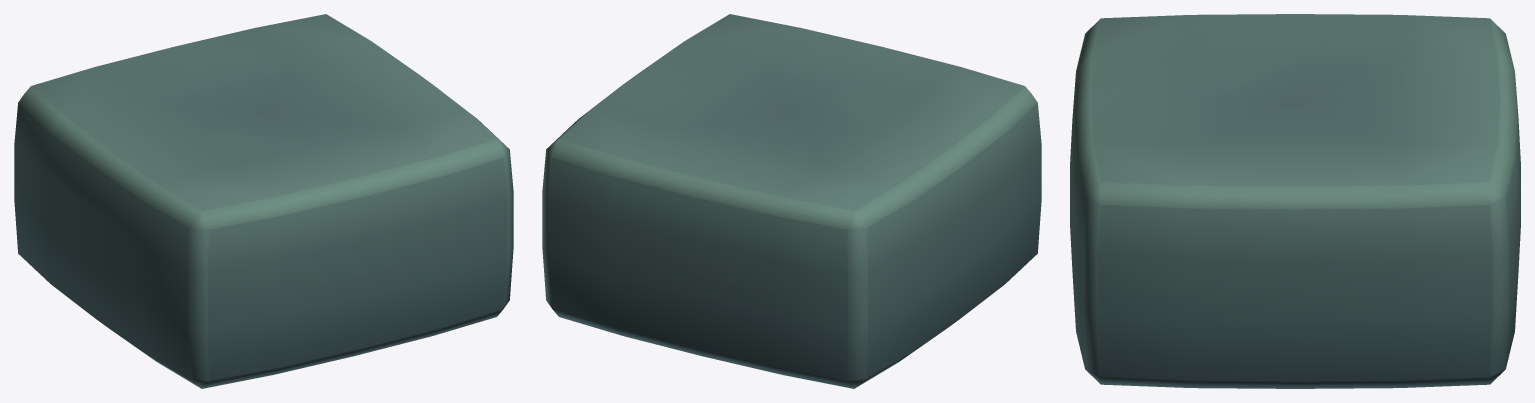
Rendered from cube_06_shade_2_LOD_setup.fbx.
The picture shows the model from 3 angles, left to right: view 1: azimuth 30°, elevation 25°; view 2: azimuth 150°, elevation 25°; view 3: azimuth 270°, elevation 25°; orthographic projection. The views are drawn at different scales.
Visible parts, largest first — view 1: cube_06_shade_2_LOD0; view 2: cube_06_shade_2_LOD0; view 3: cube_06_shade_2_LOD0.
Boxes of the visible parts, x1,y1,x2,y2 form: cube_06_shade_2_LOD0: [14, 14, 513, 388]; cube_06_shade_2_LOD0: [542, 14, 1041, 388]; cube_06_shade_2_LOD0: [1070, 14, 1520, 388].
Size of what is drawn, in the model's own units: 219 by 108 by 218.
